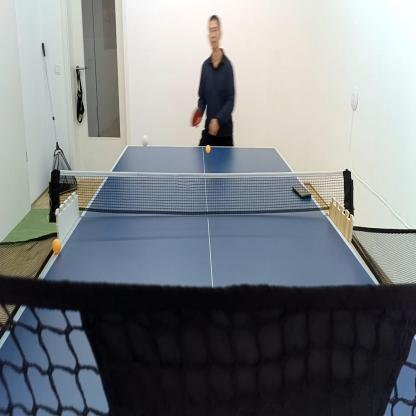Ball: (51, 237, 62, 255), (141, 133, 149, 148), (206, 144, 212, 154)
